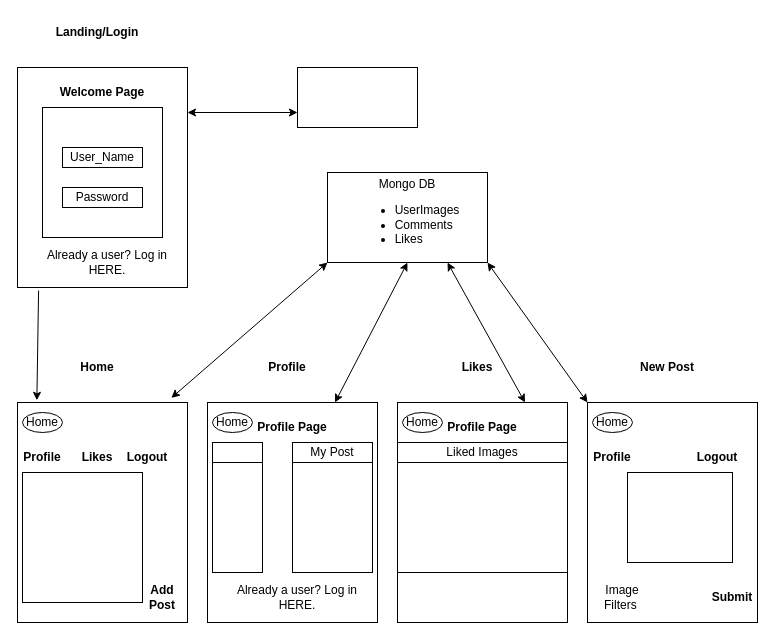
Image size: 775x640. Some labels were removed from this diagram. The shapes that lost their labels are listed below. From the top down, each one's centre as x and y in pixels, then its label:
At point (357, 97): "Auth0 User DB".
At point (237, 452): "Info".
At point (82, 537): "Feed From MongoDB".
At point (679, 517): "Upload Image".
